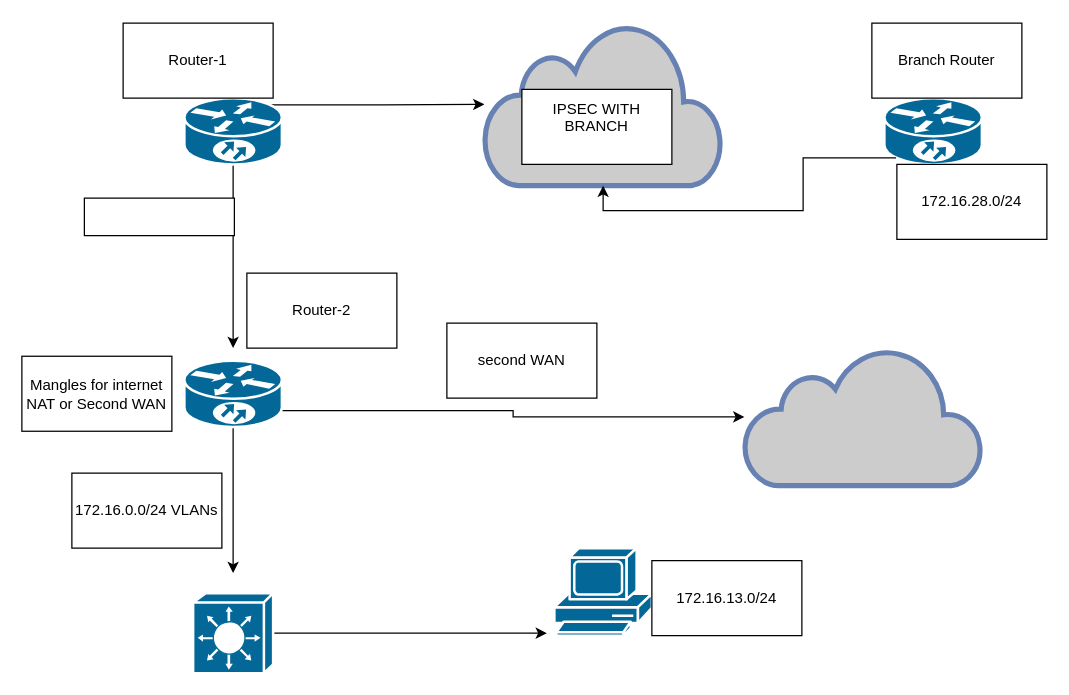
The diagram is 1069 pixels wide and 695 high, and some of its shapes have lost their labels. The centre of each missing label's shape, as x and y in pixels:
NAT 10.10.10.0/30: (x=158, y=216)
OTHER ISP WAN: (x=862, y=416)
